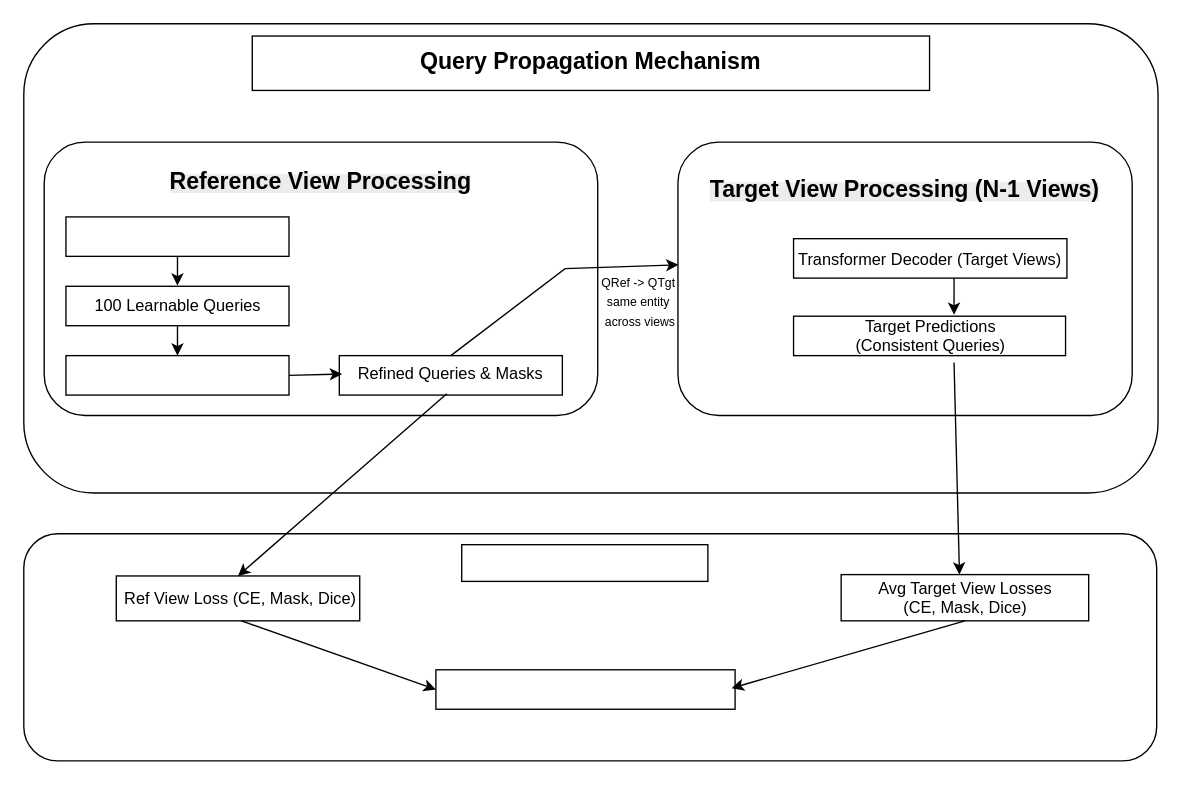
The diagram is 1182 pixels wide and 785 high, and some of its shapes have lost their labels. The centre of each missing label's shape, as x and y in pixels:
"CONSISTENCY LOSS" belongs at (584,562).
"Random View Selection" belongs at (177,236).
"Total = ref_loss + avg(target_losses)" belongs at (585,688).
"Transformer Decoder (Ref View)" belongs at (177,374).
